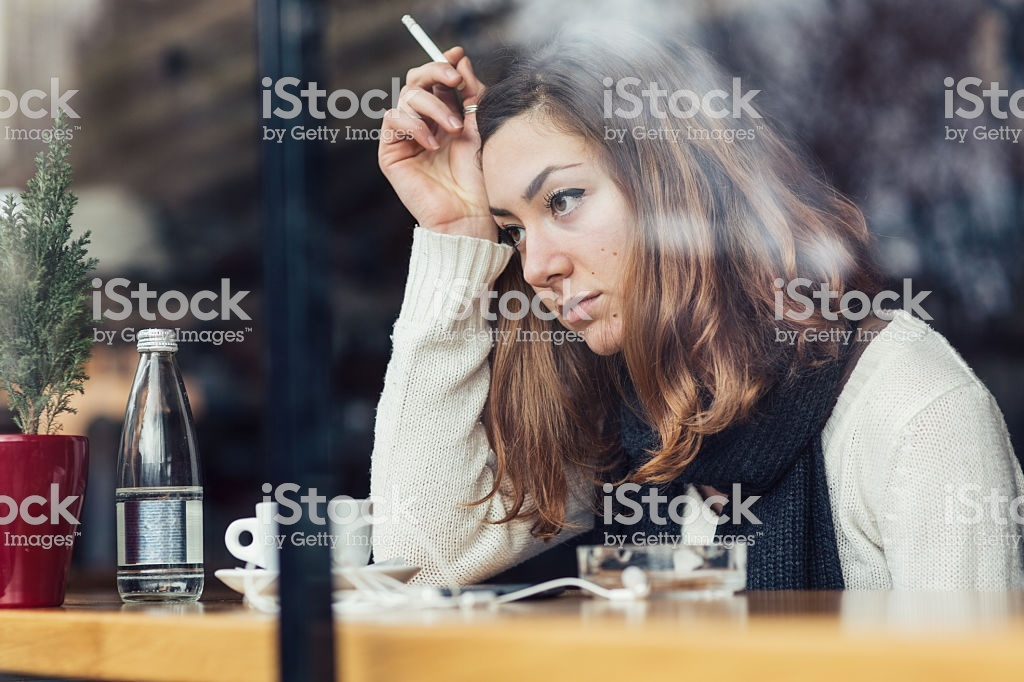sigaretta: (405, 13, 460, 79)
